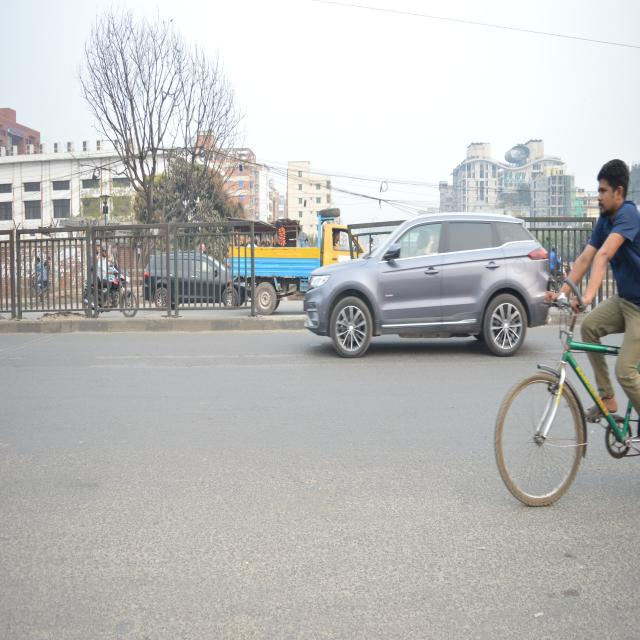car: (308, 210, 562, 371), (138, 250, 244, 322)
motorbike: (82, 266, 141, 326)
pickup-van: (231, 208, 368, 323)
